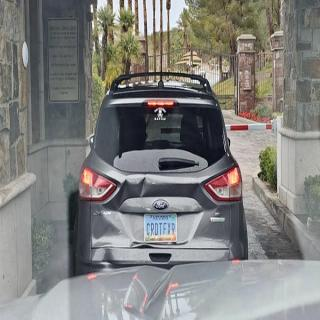license: (145, 214, 178, 244)
